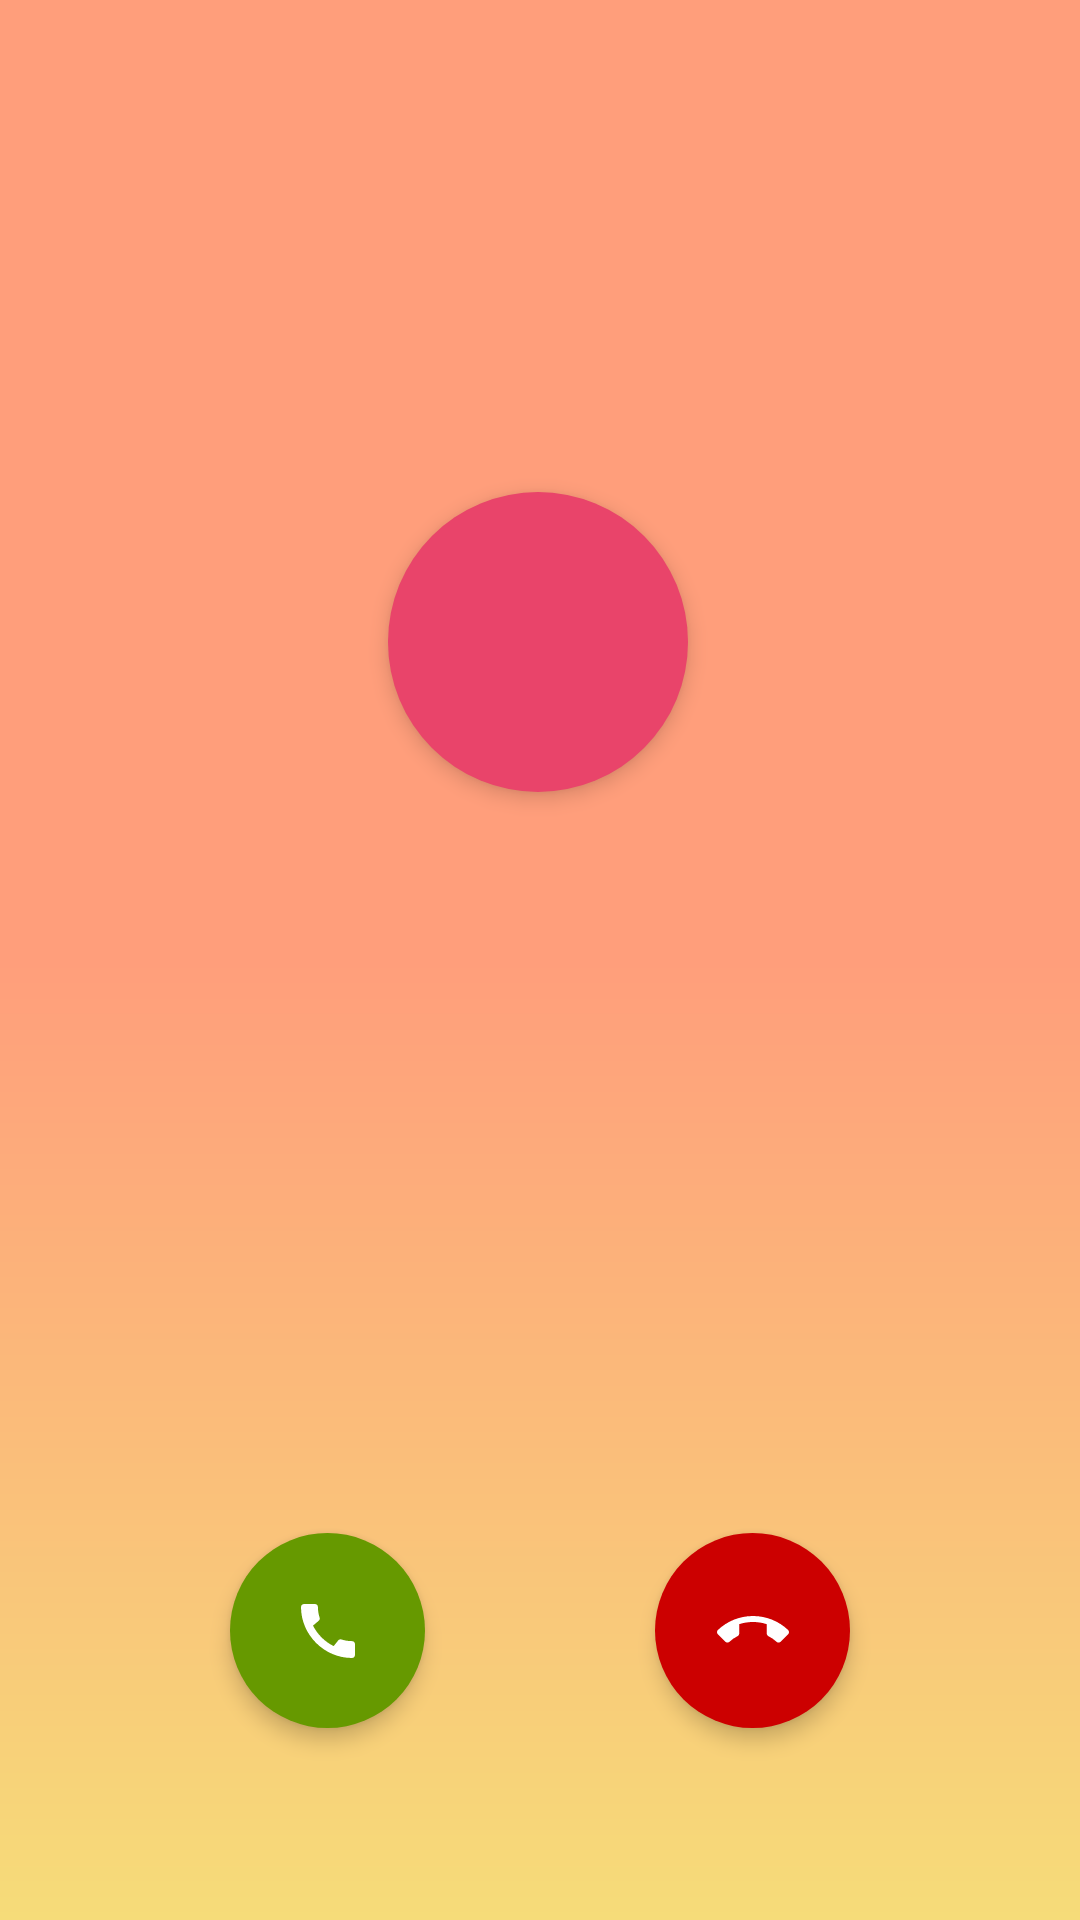

Icons on this 1080px x 1920px Android screen, each with the point to tap as point (x, y):
call: point (327, 1630)
end call: point (752, 1630)
